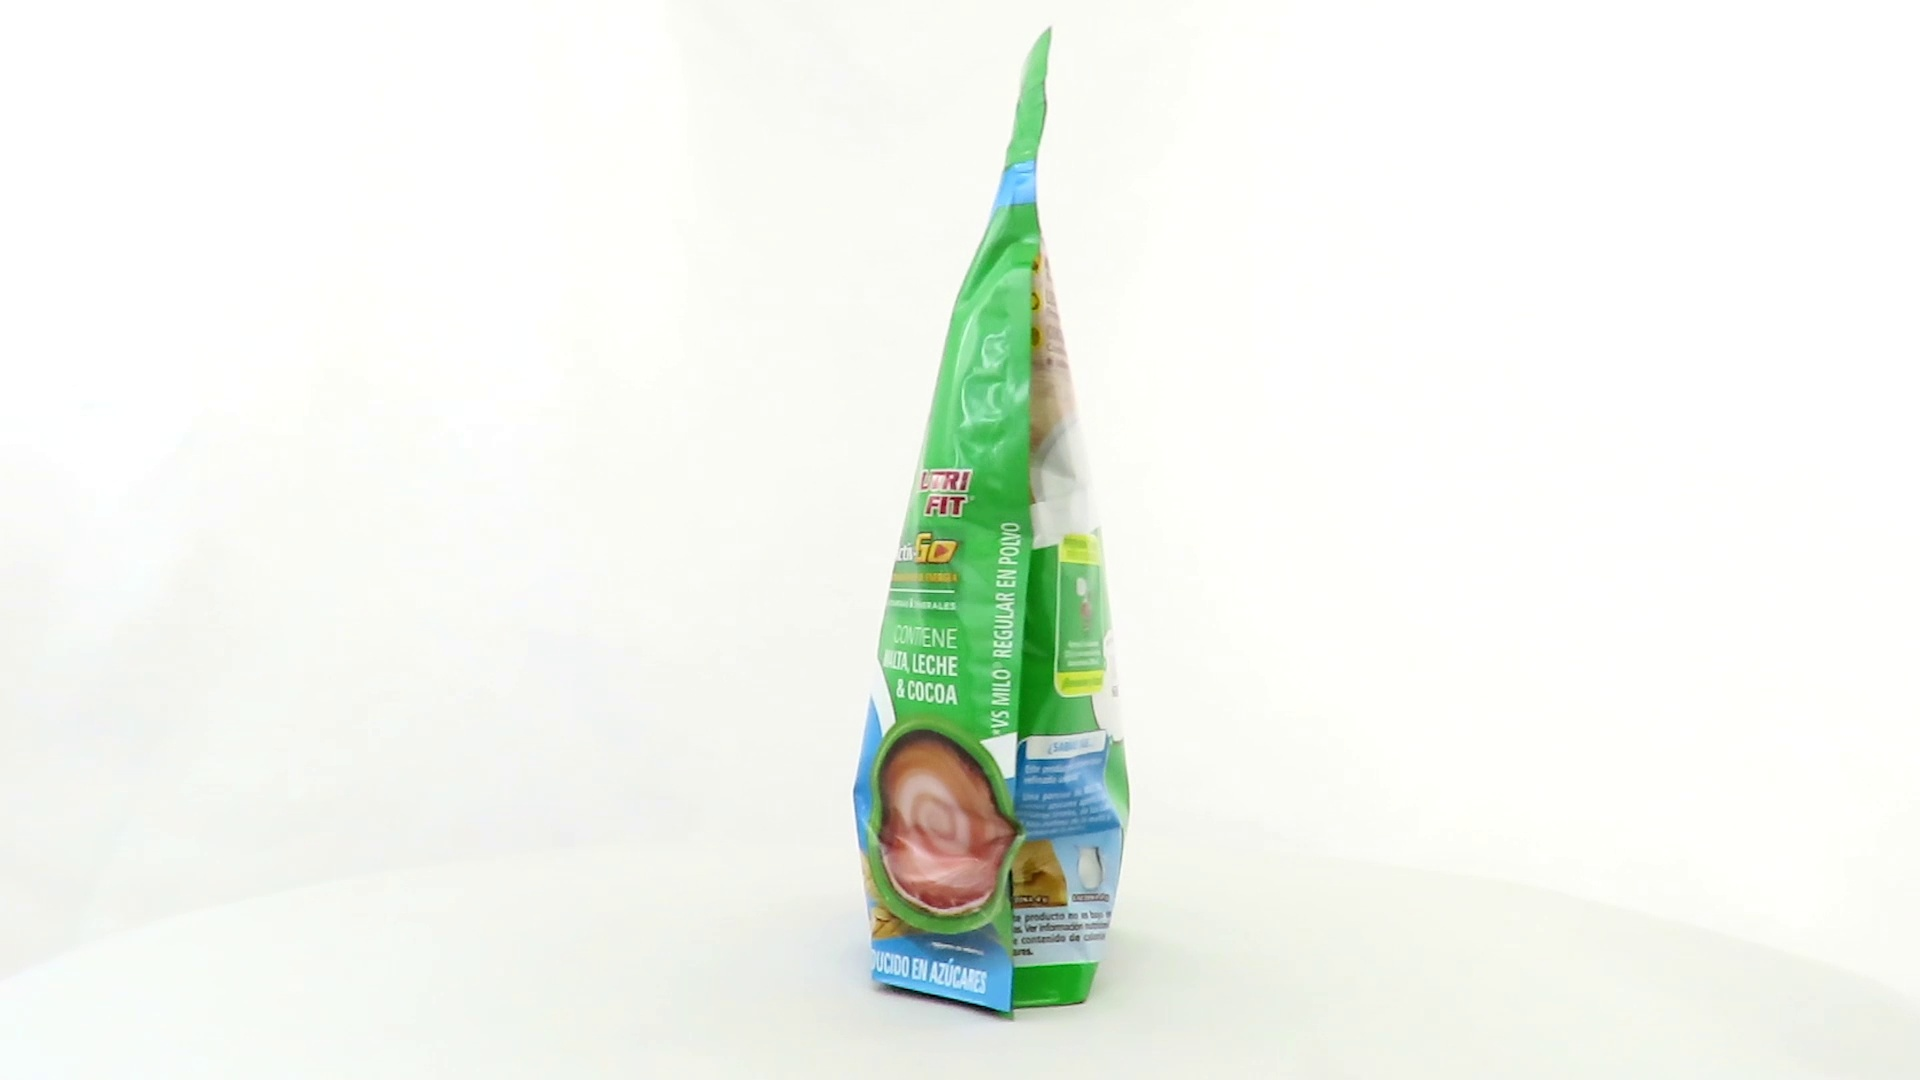COL0170205DYP50000: (848, 21, 1135, 1029)
